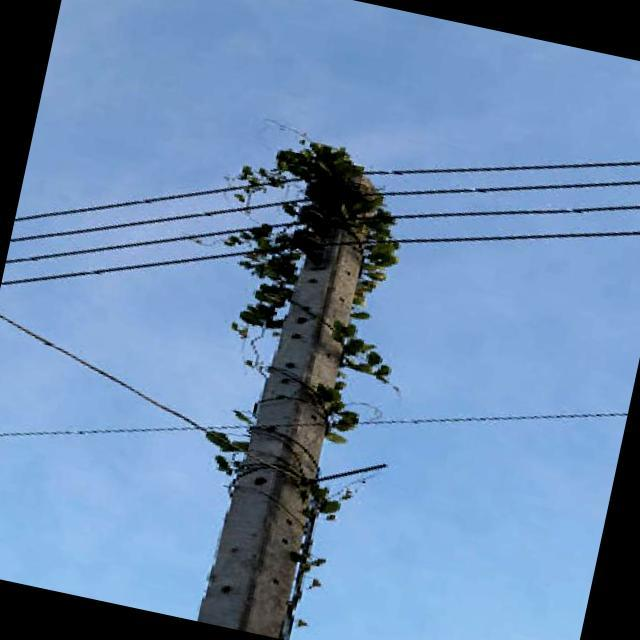light_pole: (128, 117, 464, 640)
